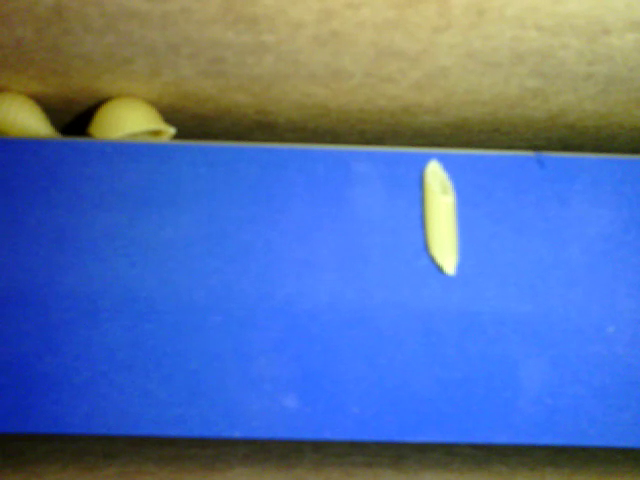penne: (417, 153, 458, 275)
shell: (85, 94, 177, 140), (1, 85, 67, 140)
